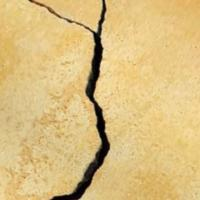crack: (27, 0, 131, 199)
